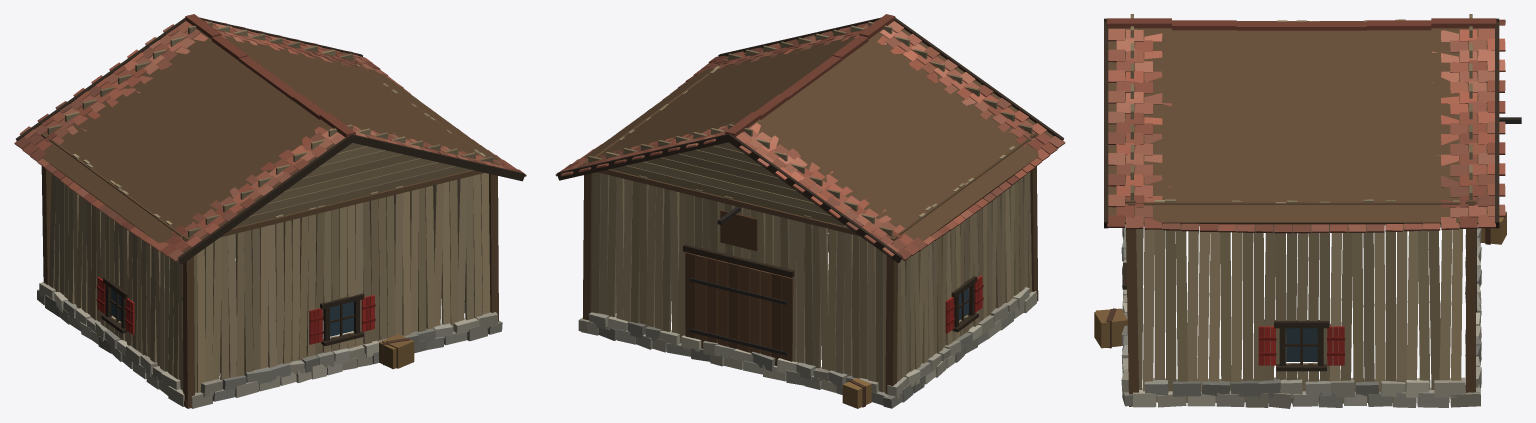
The model's file is galpao_1.glb.
3 renders of one model, left to right at view 1: azimuth 30°, elevation 25°; view 2: azimuth 150°, elevation 25°; view 3: azimuth 270°, elevation 25°, orthographic. The views are drawn at different scales.
Visible parts, largest first — view 1: Madeira, Telhado, Pedra, Vidro; view 2: Madeira, Telhado, Pedra, Ferro; view 3: Madeira, Telhado, Pedra, Vidro.
Part boxes in pixels (x1=…): Madeira: x1=16, y1=15, x2=525, y2=408; Telhado: x1=14, y1=14, x2=526, y2=261; Pedra: x1=37, y1=239, x2=502, y2=408; Vidro: x1=111, y1=289, x2=353, y2=336; Madeira: x1=556, y1=17, x2=1063, y2=408; Telhado: x1=555, y1=14, x2=1065, y2=260; Pedra: x1=578, y1=225, x2=1036, y2=408; Ferro: x1=689, y1=206, x2=786, y2=355; Madeira: x1=1094, y1=14, x2=1506, y2=406; Telhado: x1=1107, y1=18, x2=1505, y2=233; Pedra: x1=1121, y1=224, x2=1481, y2=408; Vidro: x1=1286, y1=328, x2=1317, y2=361.
Size of the model in its own units: 11.56 by 7.68 by 10.1.
